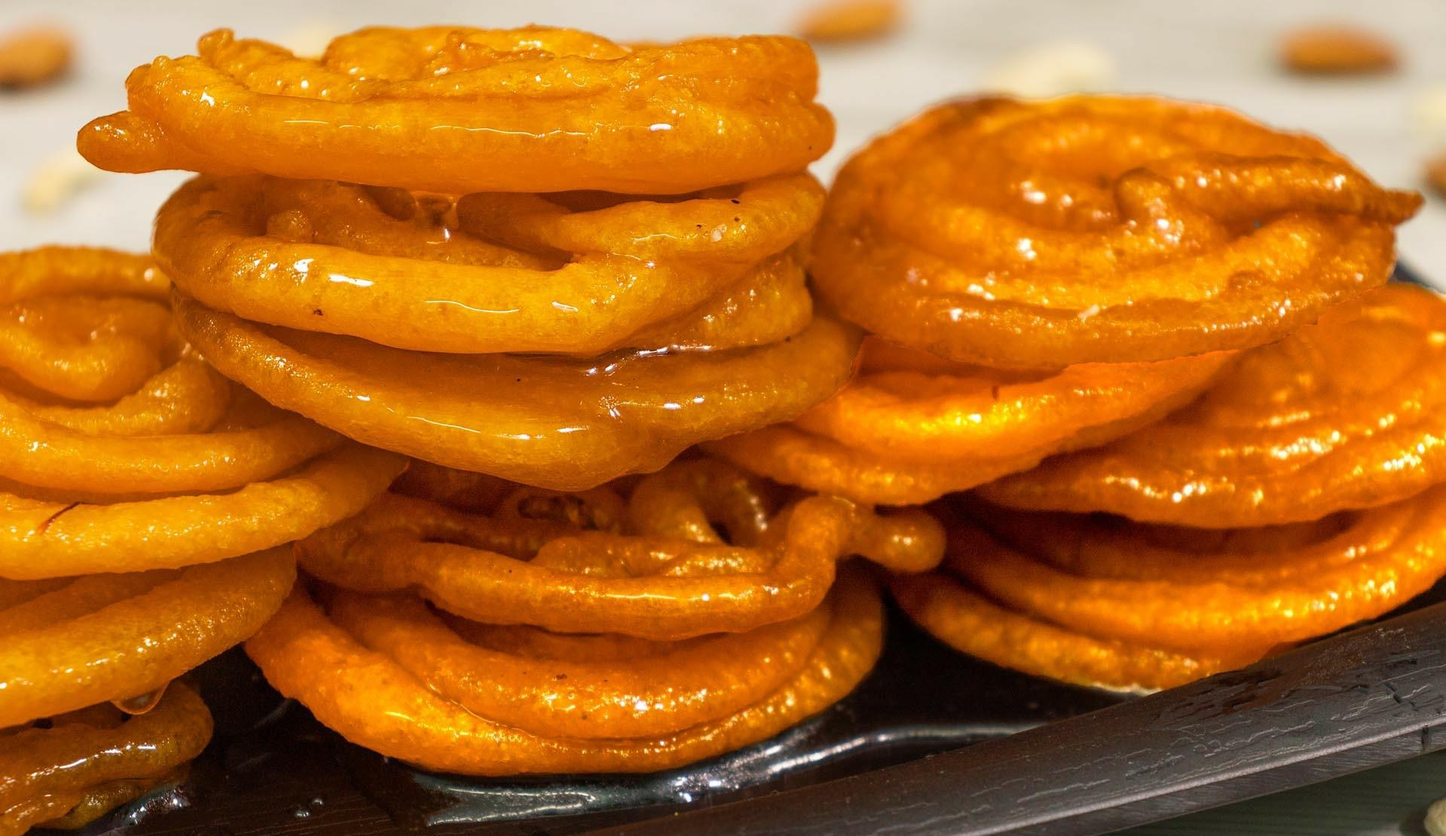Jalebi: (0, 33, 1443, 836)
